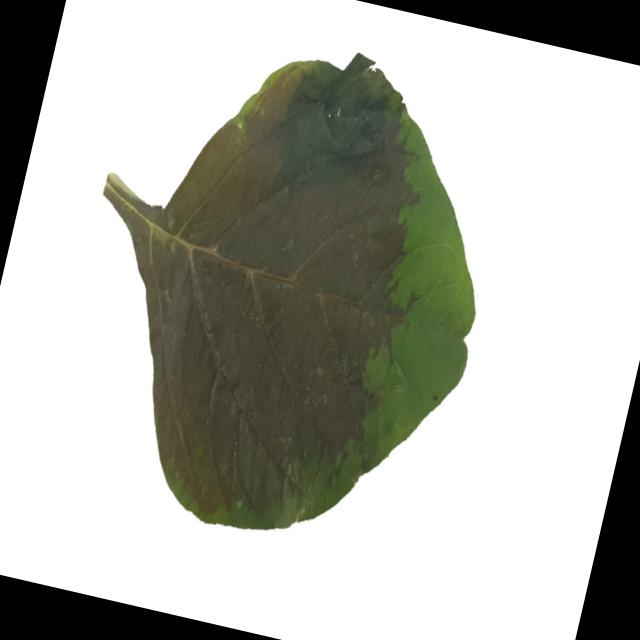Medicinal-Arive Dantu: (33, 0, 533, 574)
